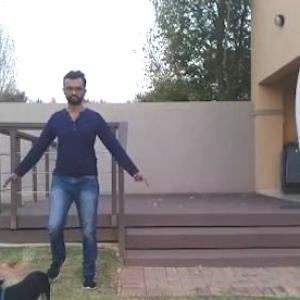land: (19, 74, 139, 283)
